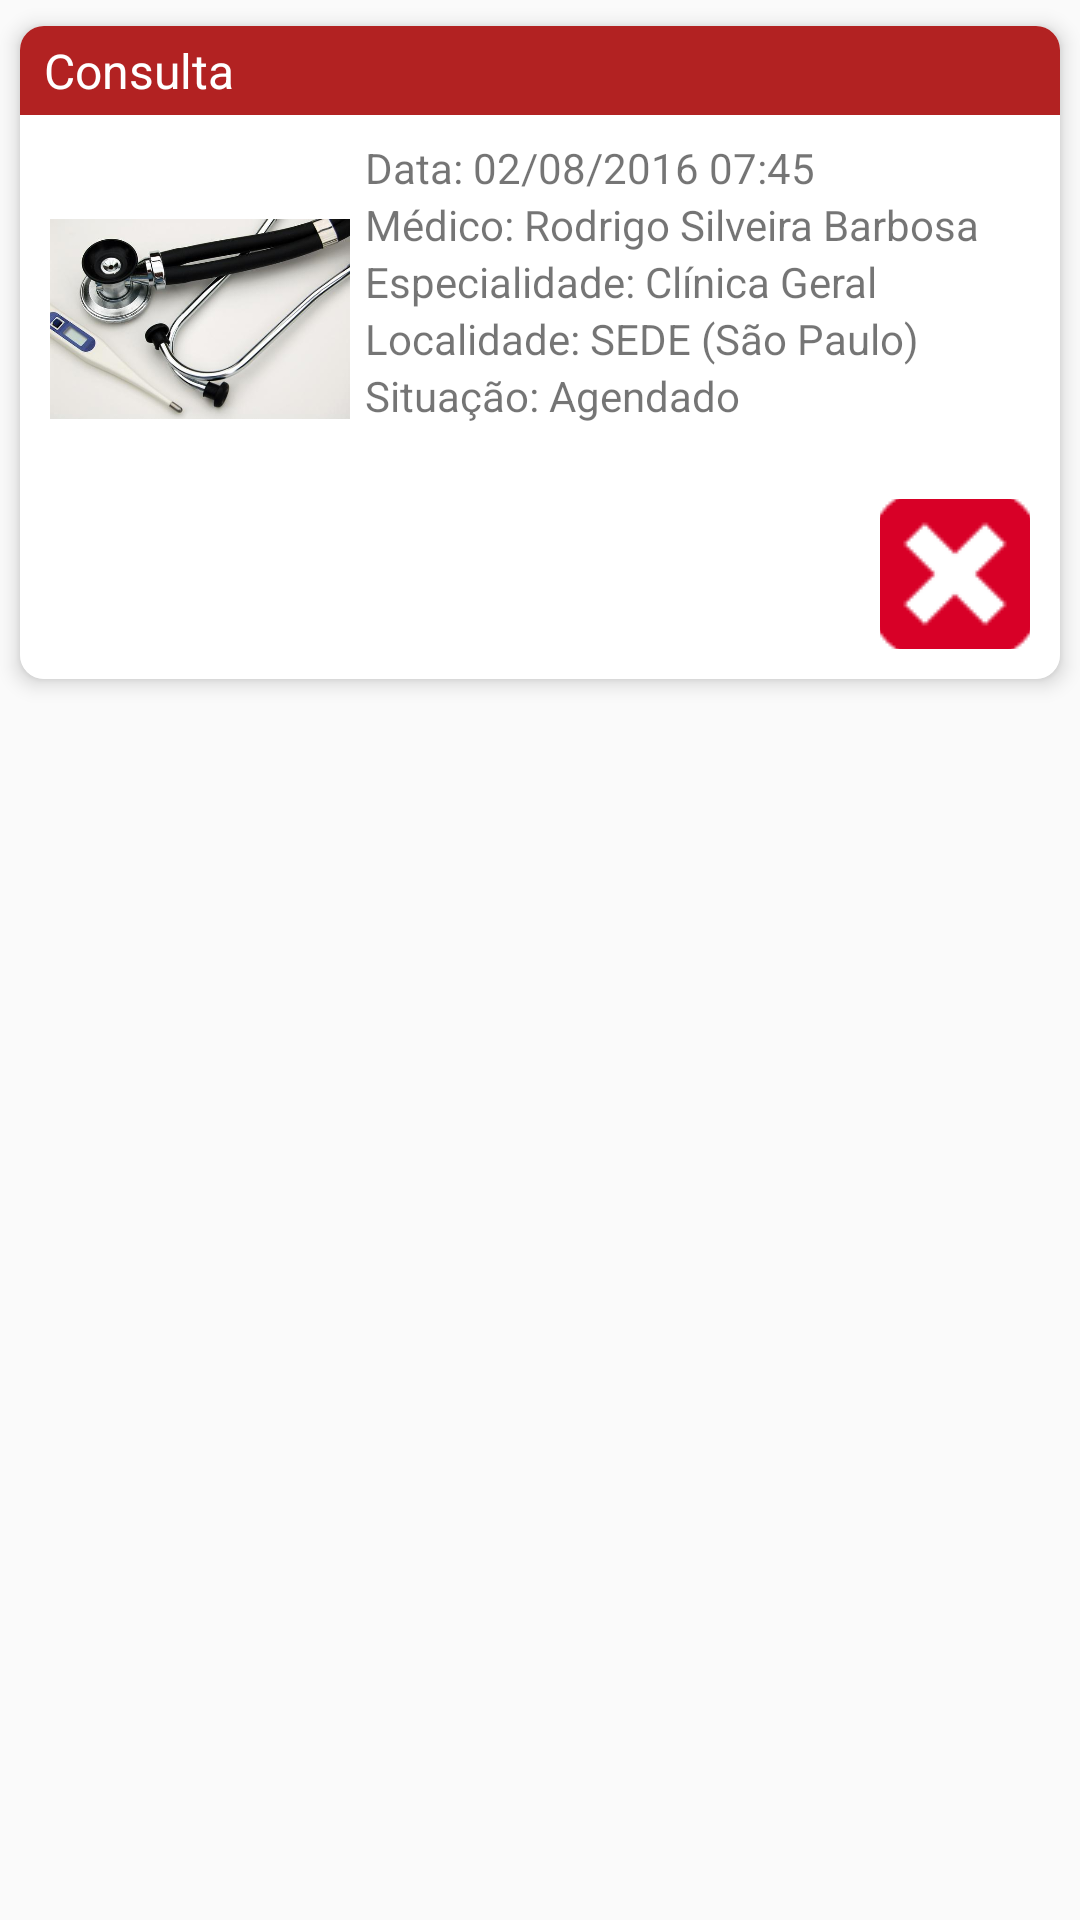

Named icons in this screenshot (1080px×1920px) and their bounding boxes, (x1, y1, x2, y2):
delete: (880, 499, 1030, 649)
